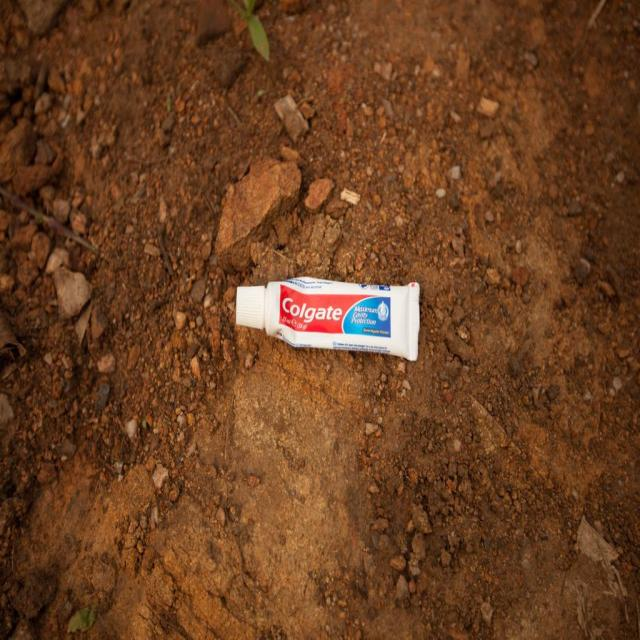Toothpaste: (235, 275, 420, 361)
